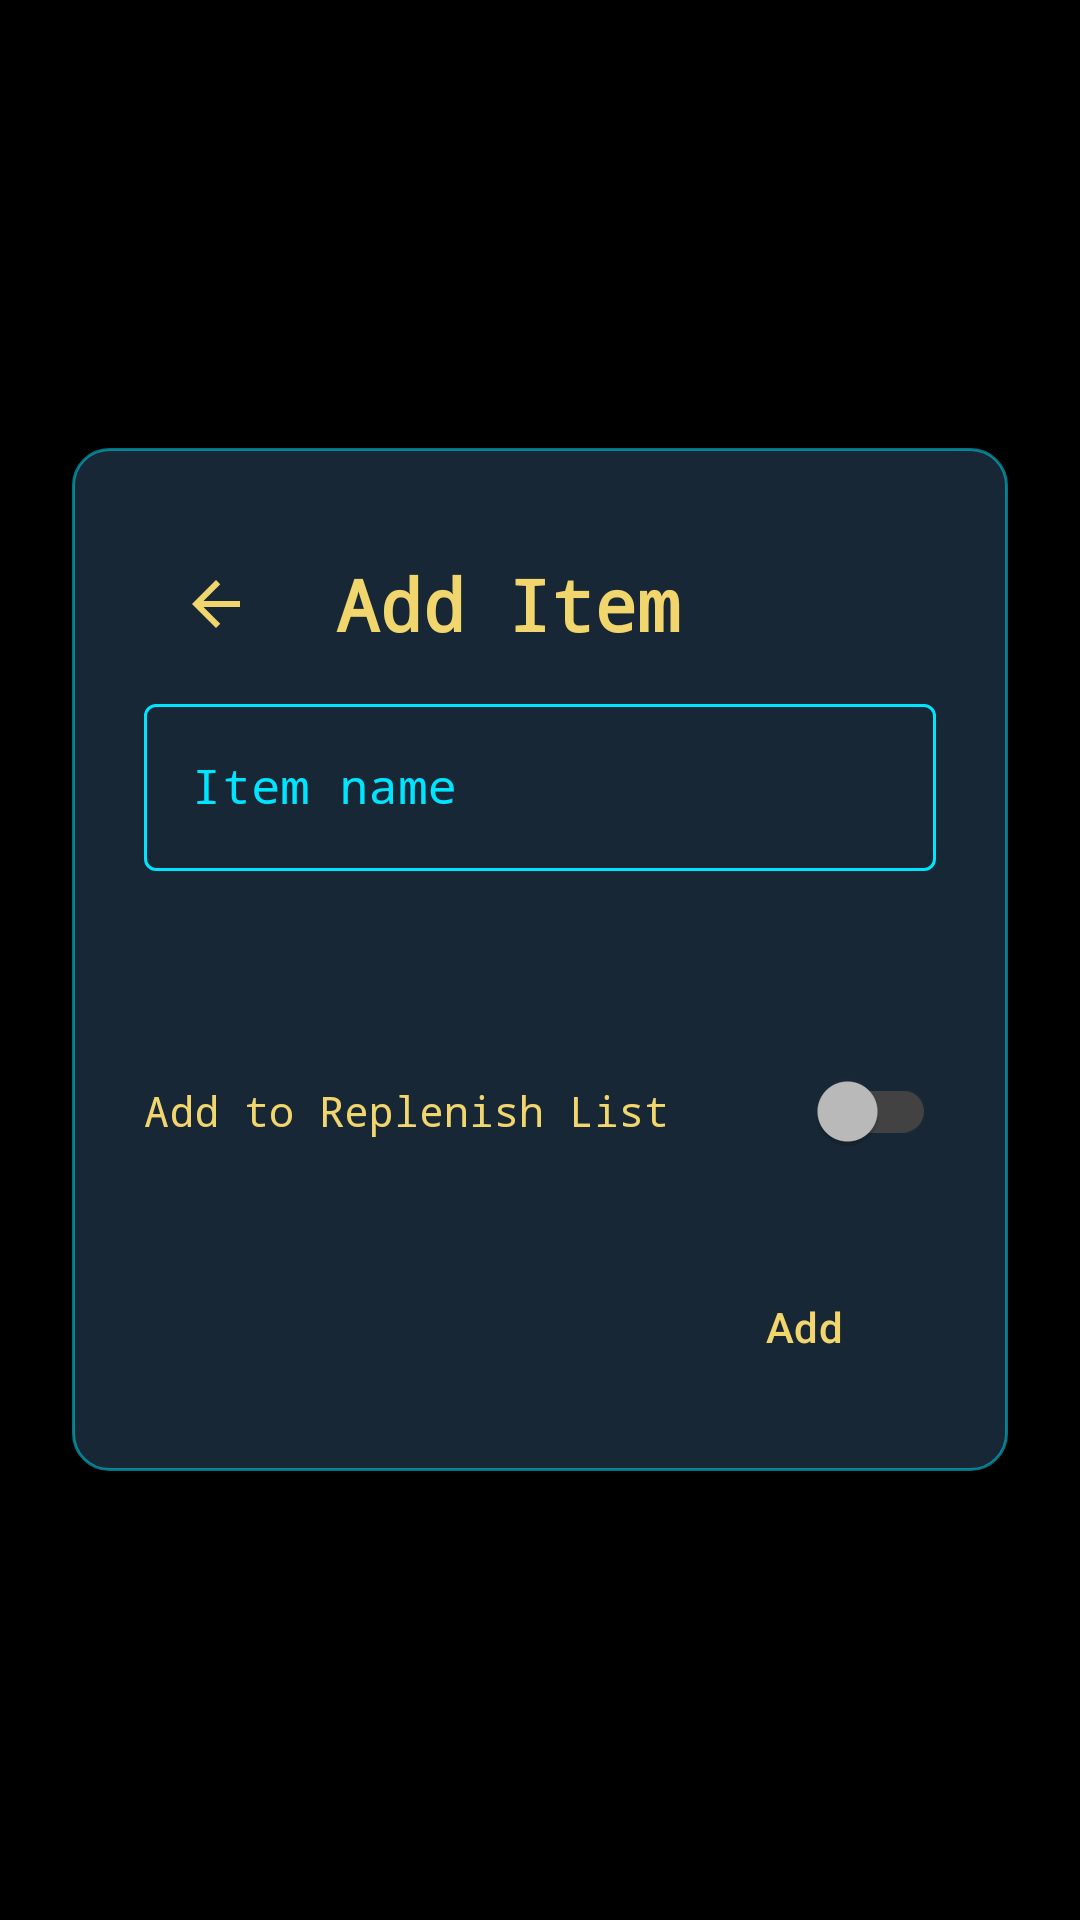

Icons on this 1080 × 1920 Android screen, each with its box as (x1, y1, x2, y2):
Back: (192, 580, 240, 628)
